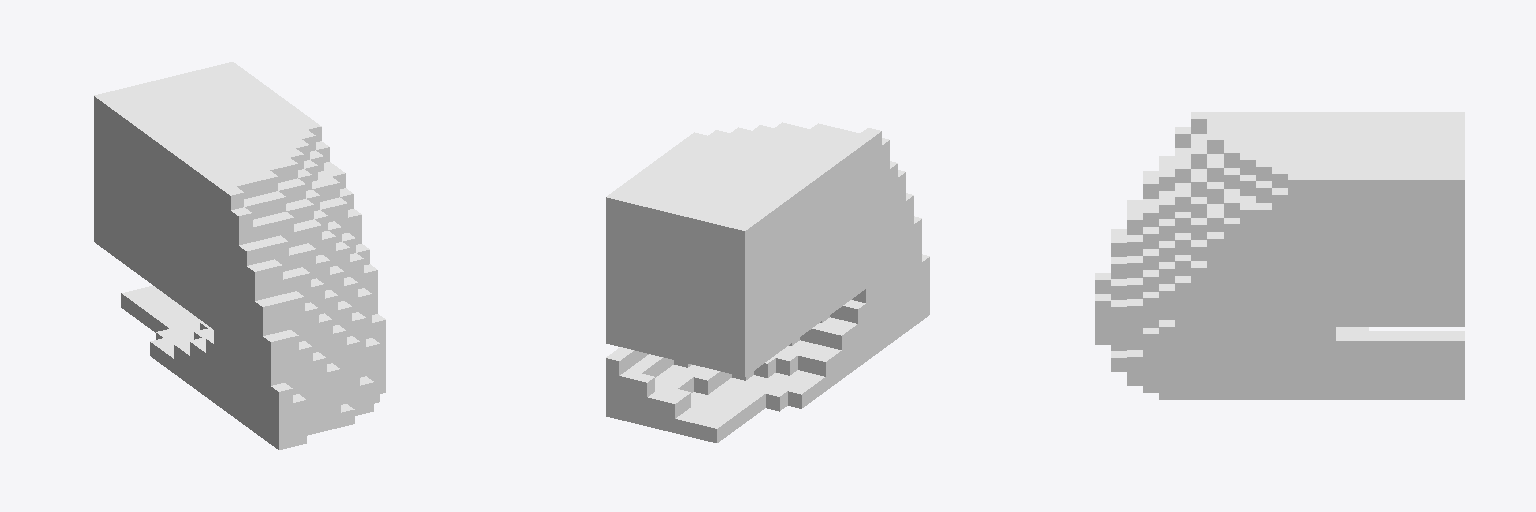
File: snowman-2-scarf2.obj
3 views of the same model, side by side, from view 1: azimuth 30°, elevation 25°; view 2: azimuth 150°, elevation 25°; view 3: azimuth 270°, elevation 25° (orthographic).
Parts seen in each view (by area): view 1: scarf2; view 2: scarf2; view 3: scarf2.
Boxes of the visible parts, x1,y1,x2,y2 form: scarf2: [94, 62, 385, 449]; scarf2: [606, 122, 929, 442]; scarf2: [1095, 112, 1464, 399].
Size of the model in its own units: 1 by 1.5 by 2.3.